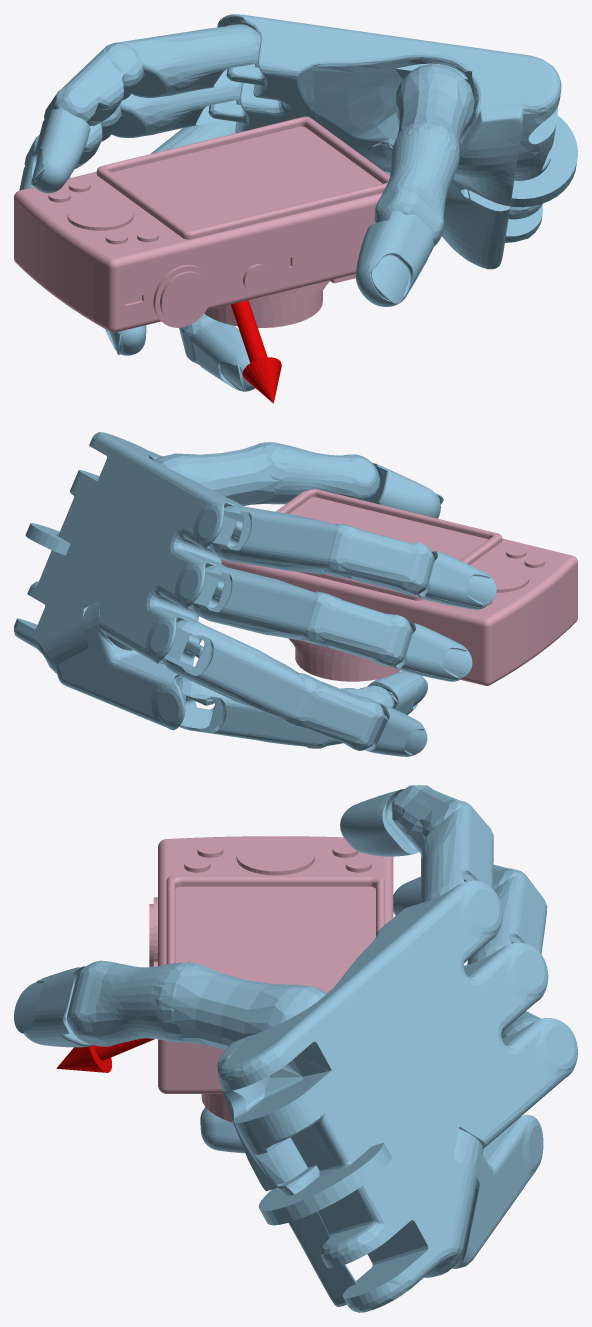
3 renders of one model, top to bottom at view 1: azimuth 30°, elevation 25°; view 2: azimuth 150°, elevation 25°; view 3: azimuth 270°, elevation 25°, orthographic. The views are drawn at different scales.
Parts seen in each view (by area): view 1: world, camera.stl; view 2: world, camera.stl; view 3: world, camera.stl.
Part boxes in pixels (x1=…): world: x1=19, y1=14, x2=577, y2=403; camera.stl: x1=14, y1=116, x2=390, y2=332; world: x1=14, y1=432, x2=496, y2=756; camera.stl: x1=222, y1=489, x2=577, y2=685; world: x1=14, y1=785, x2=577, y2=1312; camera.stl: x1=149, y1=836, x2=393, y2=1122.
Size of the model in its own units: 0.2004 by 0.101 by 0.155.
